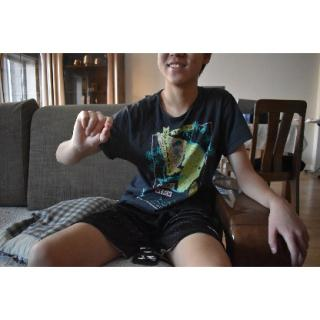FAA: (72, 106, 118, 152)
